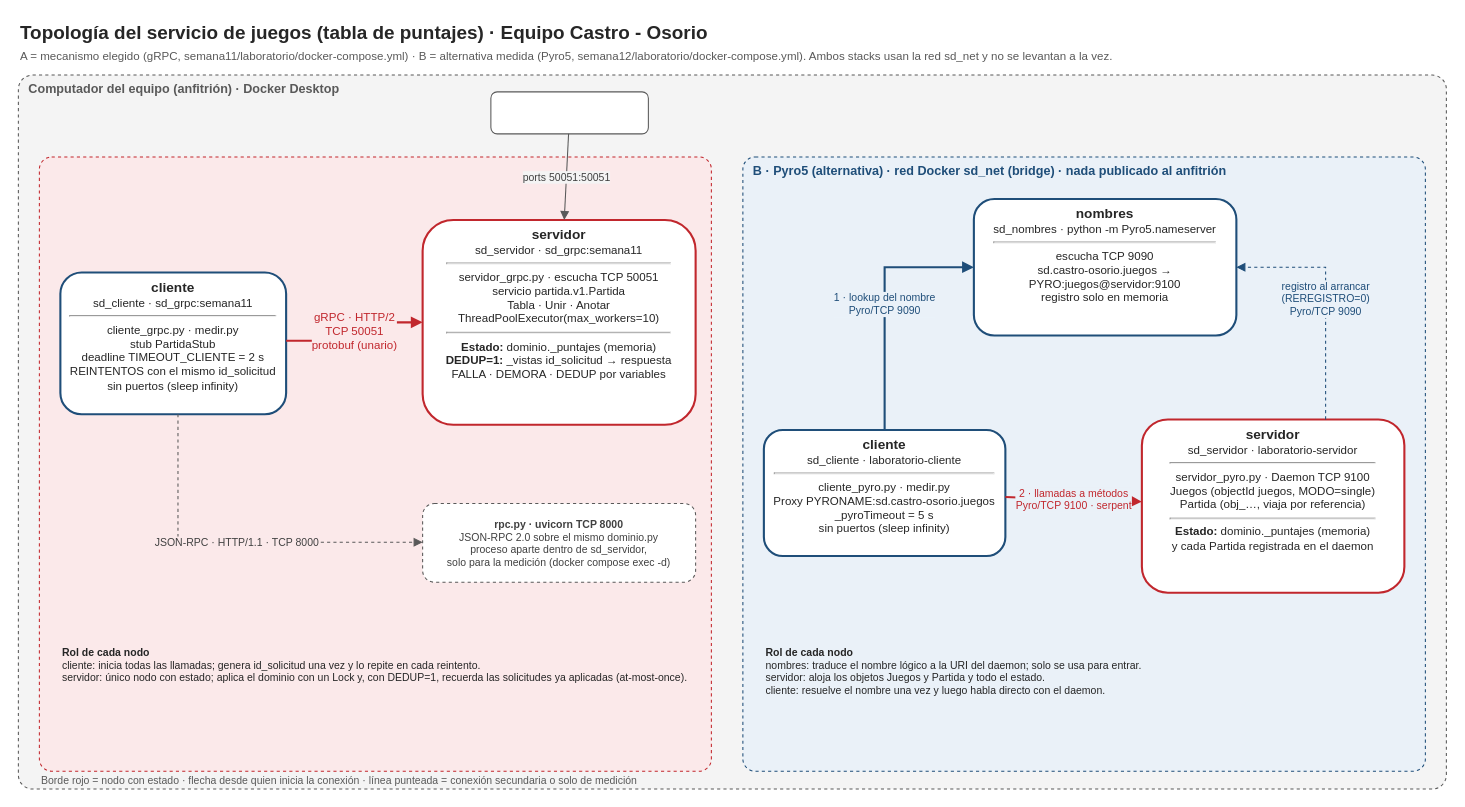
Some shapes in this 1465 by 807 pixel diagram are drawn without their labels. Here are the shapes that lost their labels. From the top down, the box of each, then its label:
(490, 91, 648, 134): localhost:50051 puerto publicado
(38, 156, 711, 771): A · gRPC (elegido) · red Docker sd_net (bridge)
